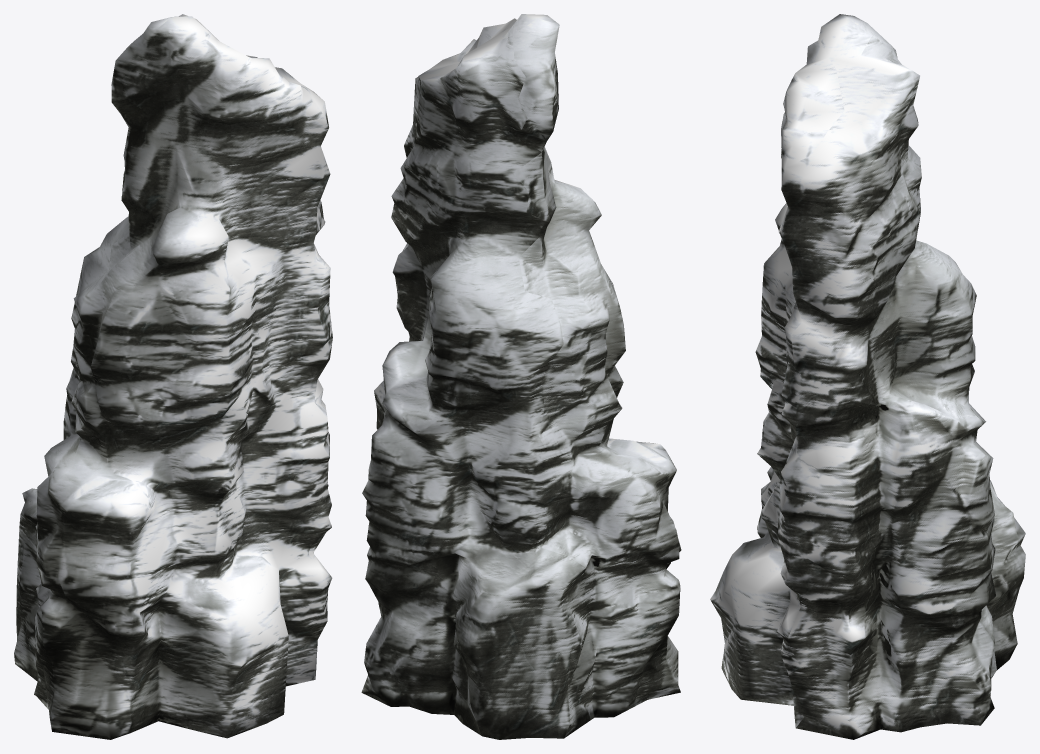
3 views of the same model, side by side, from view 1: azimuth 30°, elevation 25°; view 2: azimuth 150°, elevation 25°; view 3: azimuth 270°, elevation 25° (orthographic). The views are drawn at different scales.
Parts seen in each view (by area): view 1: Object_2; view 2: Object_2; view 3: Object_2.
Part boxes in pixels (<box>): Object_2: <box>14,14,332,739</box>; Object_2: <box>361,14,681,739</box>; Object_2: <box>710,14,1025,739</box>.
Bounding box in the file's own units: 47.99 × 107 × 46.88.
Materials: 1 (1 with a texture image).
